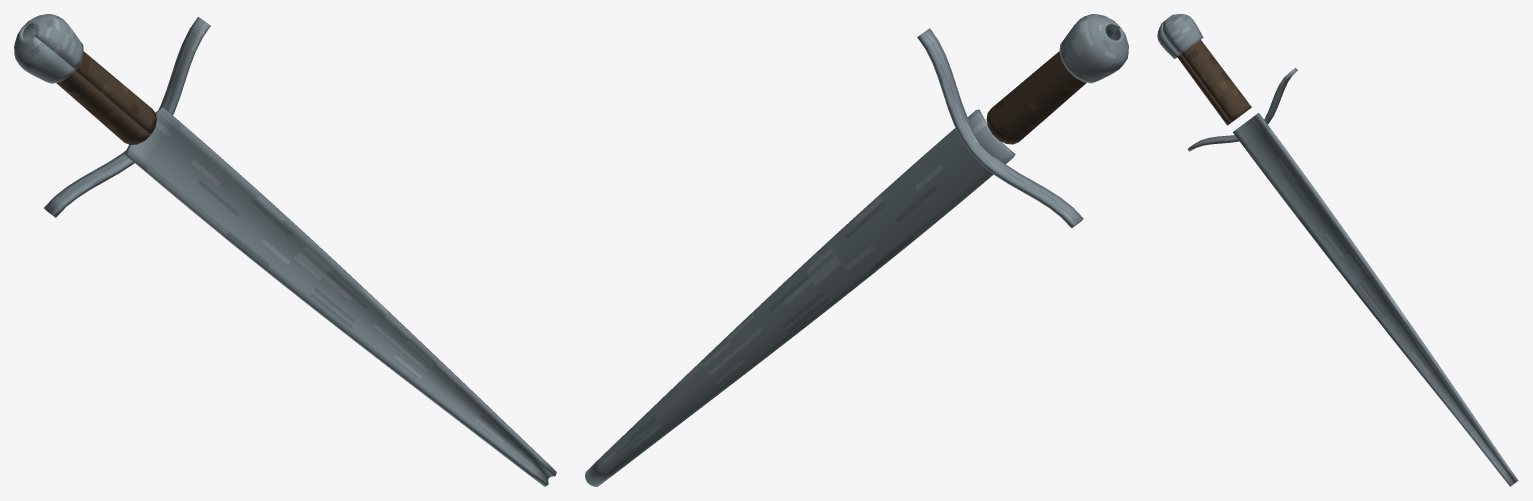
The model's file is sword.glb.
The picture shows the model from 3 angles, left to right: view 1: azimuth 30°, elevation 25°; view 2: azimuth 150°, elevation 25°; view 3: azimuth 330°, elevation 25°; orthographic projection. The views are drawn at different scales.
Visible parts, largest first — view 1: sword__Way_steel, sword__Way_leather; view 2: sword__Way_steel, sword__Way_leather; view 3: sword__Way_steel, sword__Way_leather.
Boxes of the visible parts, box(x1,y1,x2,y2) form: sword__Way_steel: box(14, 14, 556, 486); sword__Way_leather: box(56, 51, 156, 144); sword__Way_steel: box(585, 14, 1128, 486); sword__Way_leather: box(986, 51, 1086, 144); sword__Way_steel: box(1157, 14, 1518, 486); sword__Way_leather: box(1177, 40, 1251, 125).
Size of the model in its own units: 0.5955 by 0.6239 by 0.0576.
Materials: 2 (2 with a texture image).
